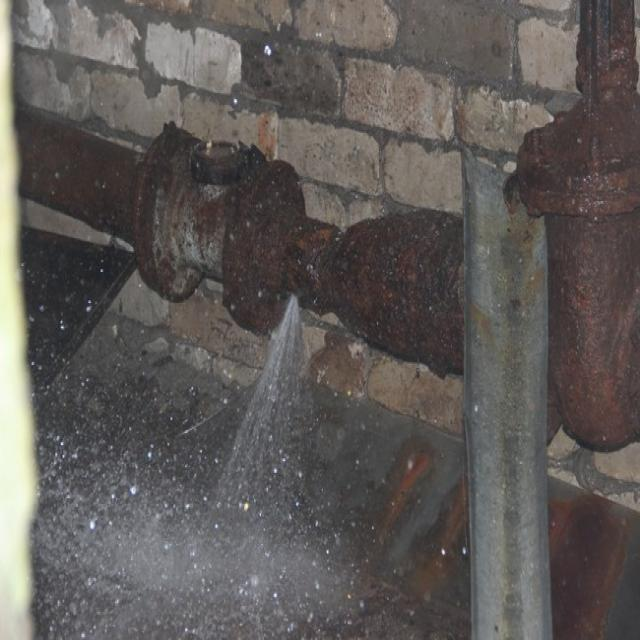leak: (220, 295, 311, 499)
